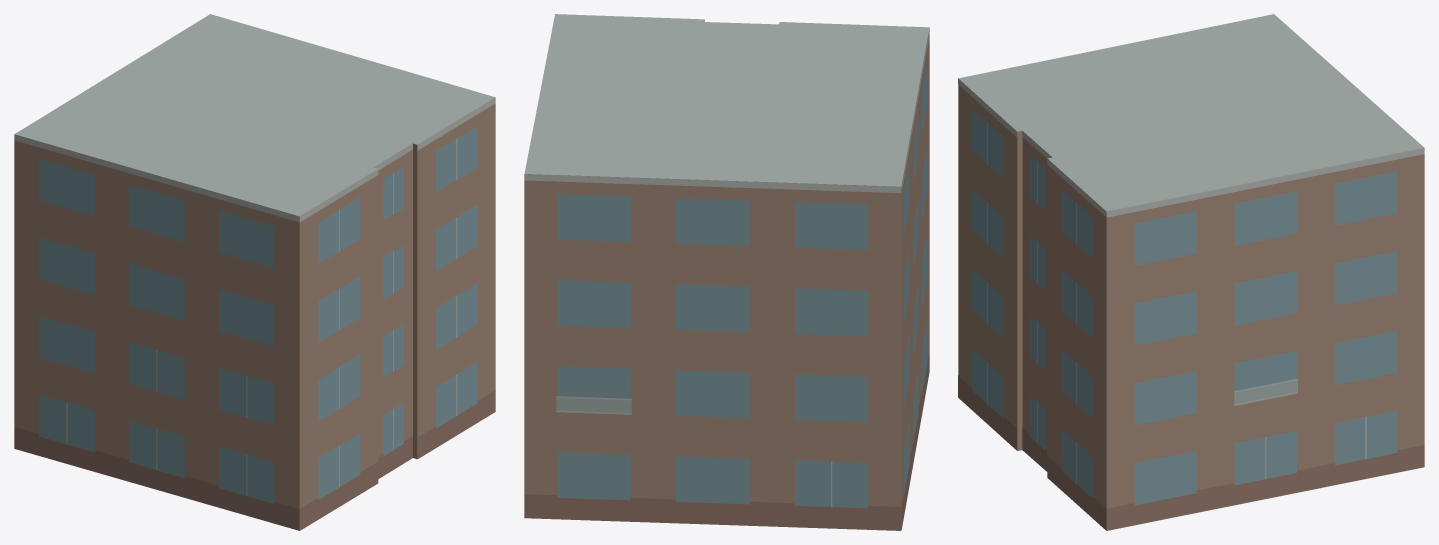
Rendered from survey-upis-32724291.glb.
The picture shows the model from 3 angles, left to right: view 1: azimuth 30°, elevation 25°; view 2: azimuth 150°, elevation 25°; view 3: azimuth 270°, elevation 25°; orthographic projection. The views are drawn at different scales.
Visible parts, largest first — view 1: survey-upis-32724291.tmp; view 2: survey-upis-32724291.tmp; view 3: survey-upis-32724291.tmp.
Part boxes in pixels (x1,y1,x2,y2): survey-upis-32724291.tmp: [14, 14, 495, 530]; survey-upis-32724291.tmp: [524, 14, 929, 530]; survey-upis-32724291.tmp: [958, 14, 1424, 530].
Size of the model in its own units: 17 by 12.8 by 16.96.
